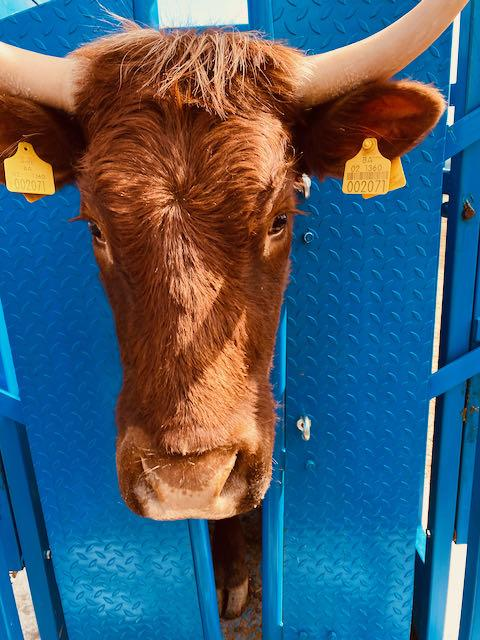muzzles: (107, 447, 284, 527)
